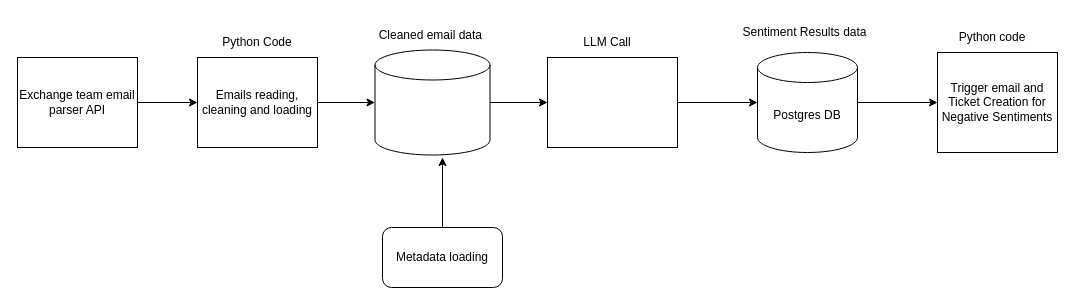
Image size: 1075x305. Some labels were removed from this diagram. The shapes that lost their labels are listed below. From the top down, each one's box as (x1, y1, x2, y2) in pixels, then its label:
(374, 49, 490, 155): MongoDB
(546, 56, 678, 148): Sentiment and parameters extraction
